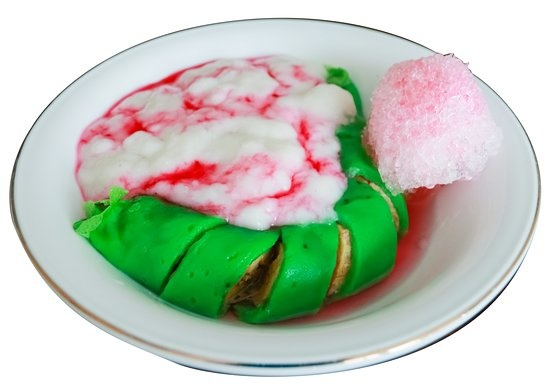es_pisang_ijo: (80, 63, 448, 313)
